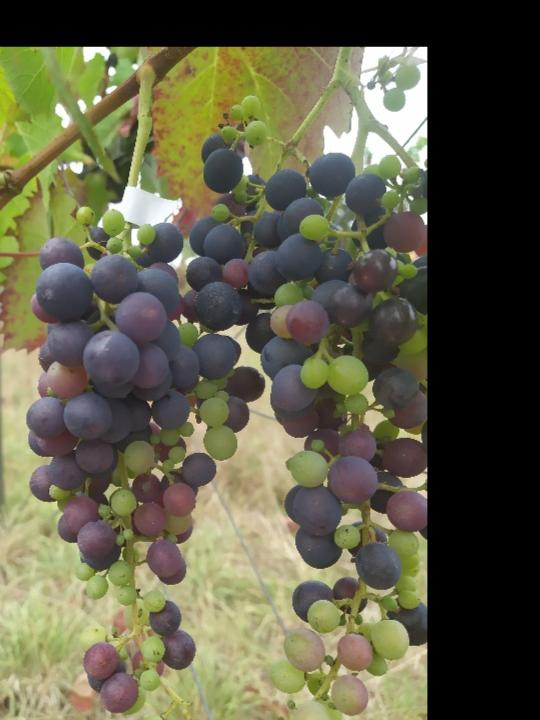grape: (198, 89, 427, 720), (14, 203, 264, 720)
